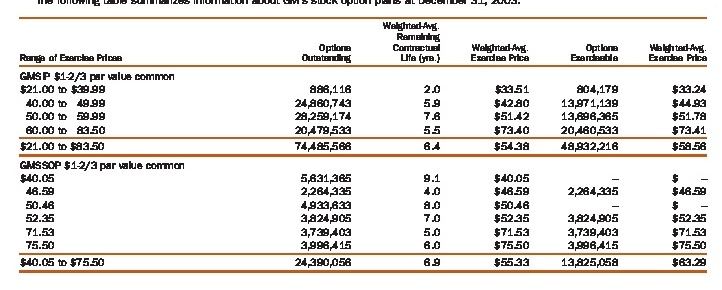table: (0, 0, 722, 290)
